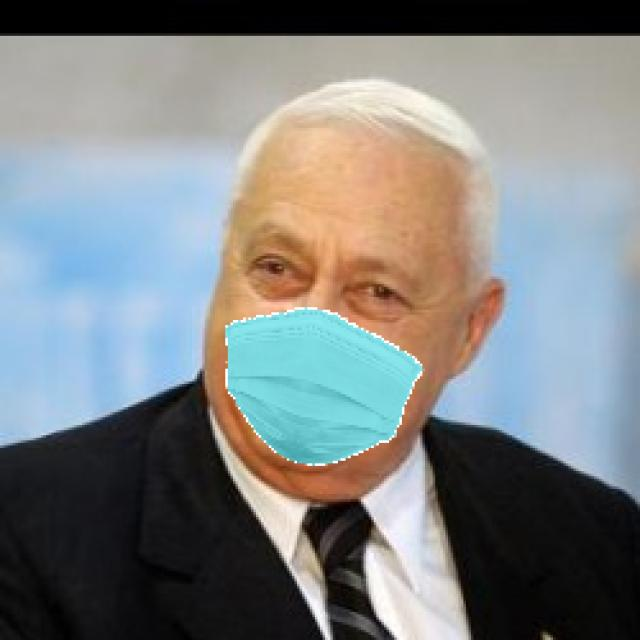mask: (215, 295, 442, 477)
